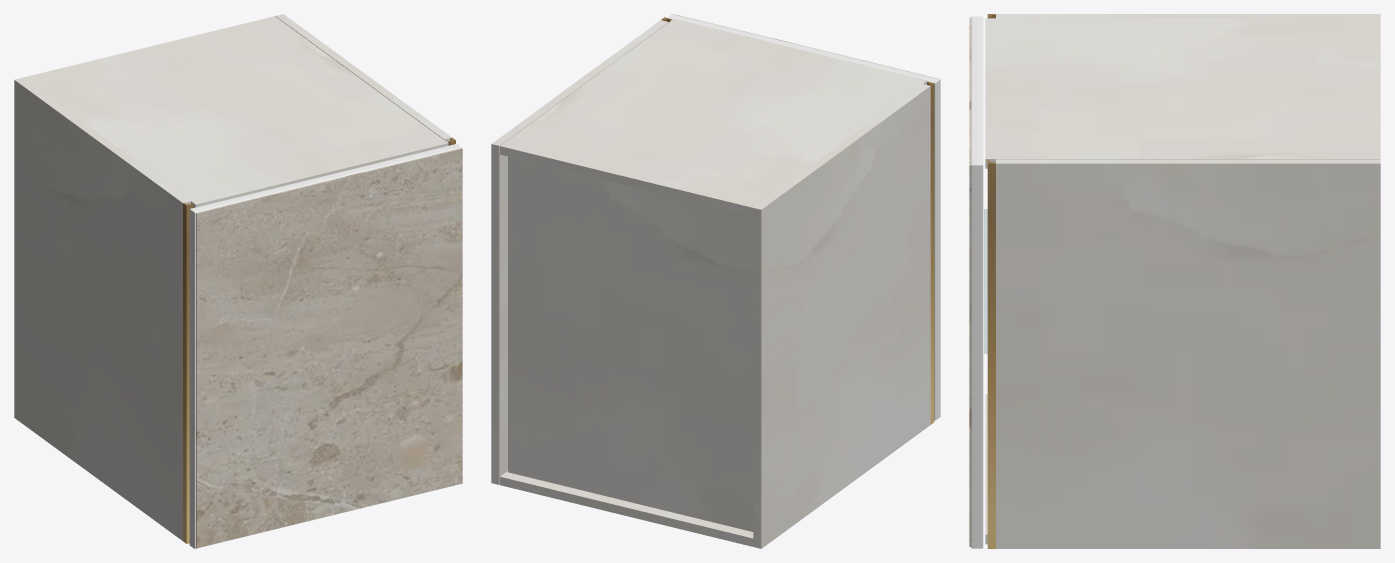
File: WLC1S1HS_LH (H600xW500xD580) (2).glb
3 renders of one model, left to right at view 1: azimuth 30°, elevation 25°; view 2: azimuth 150°, elevation 25°; view 3: azimuth 270°, elevation 25°, orthographic. The views are drawn at different scales.
Size of what is drawn, in the model's own units: 0.5 by 0.6 by 0.5809.
7 materials, 3 textured.
